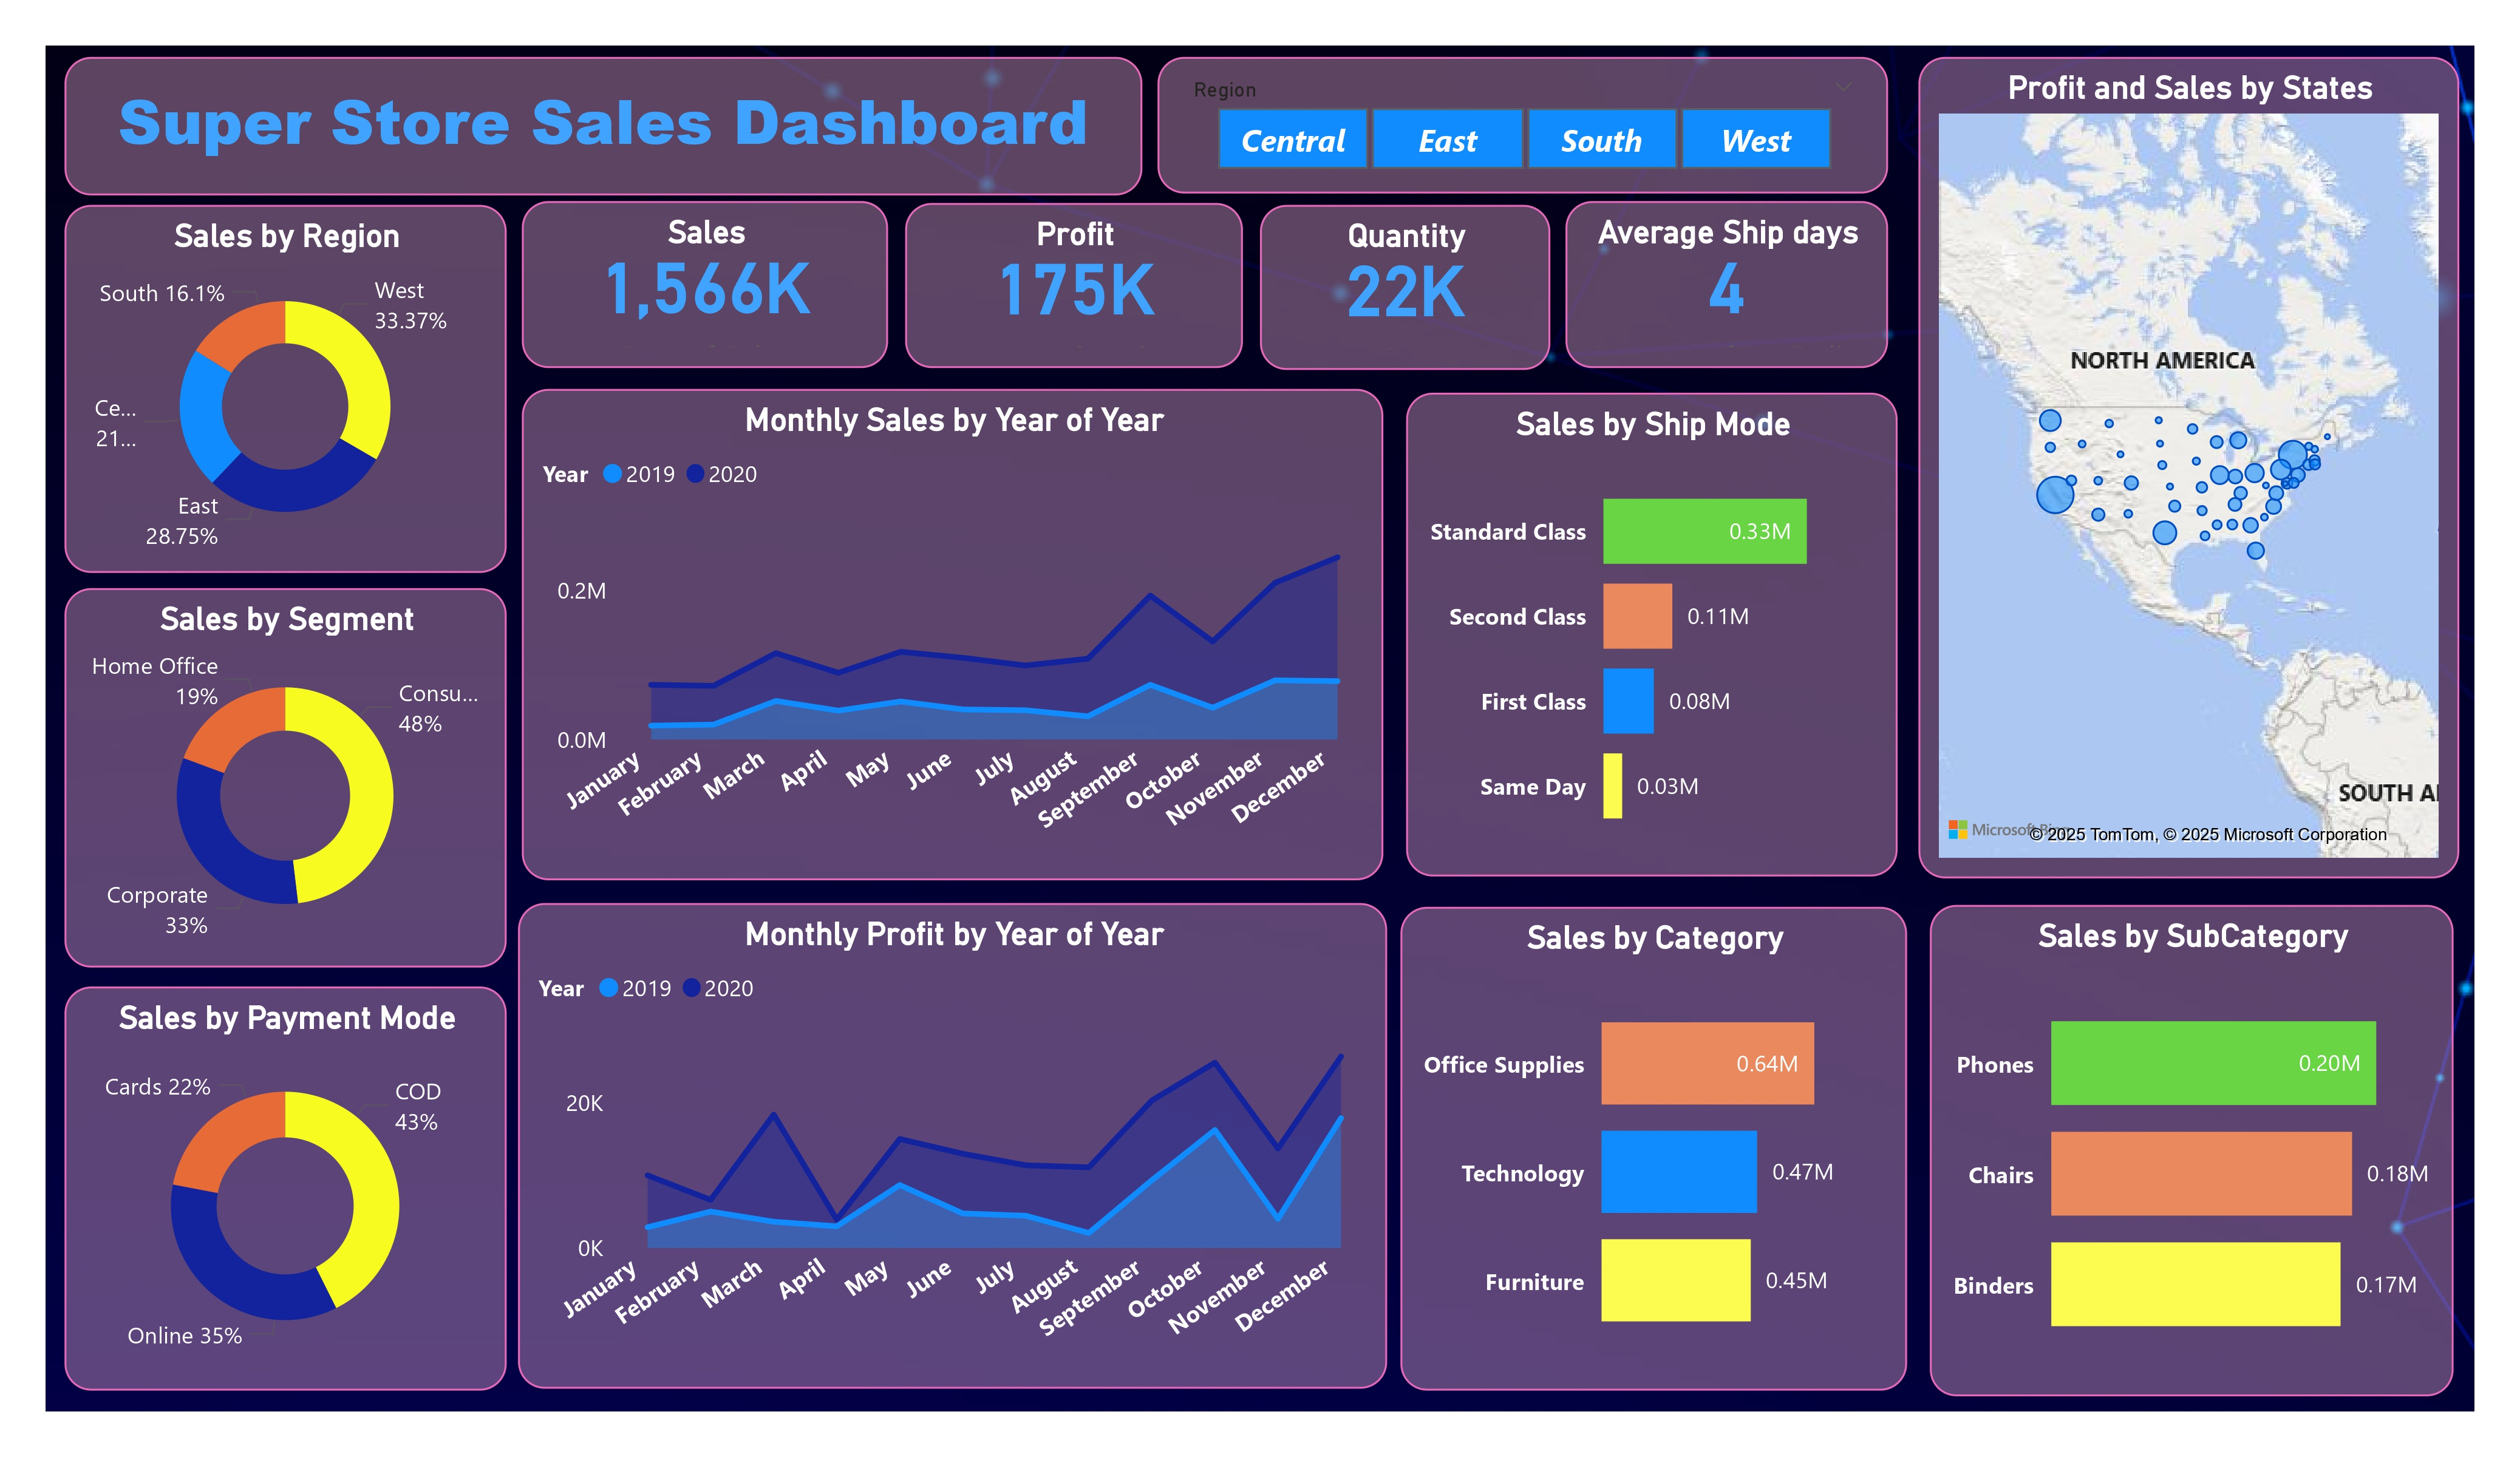

The page's visual inventory and layout, read from the dashboard file:
{"tool":"powerbi","page":{"name":"Sales Dashboard","canvas":[1280,720],"ordinal":0},"visuals":[{"type":"clusteredBarChart","title":"Sales by Category","fields":{"Category":["SuperStore_Sales_Dataset.Category"],"Y":["Sum(SuperStore_Sales_Dataset.Sales)"]},"box":[714.2,454.1,266.6,255.3],"z":0},{"type":"clusteredBarChart","title":"Sales by SubCategory","fields":{"Category":["SuperStore_Sales_Dataset.Sub-Category"],"Y":["Sum(SuperStore_Sales_Dataset.Sales)"]},"box":[992.9,452.9,276.3,258.9],"z":1000},{"type":"clusteredBarChart","title":"Sales by Ship Mode","fields":{"Category":["SuperStore_Sales_Dataset.Ship Mode"],"Y":["Sum(SuperStore_Sales_Dataset.Sales)"]},"box":[716.6,183.4,259.4,254.6],"z":2000},{"type":"stackedAreaChart","title":"Monthly Sales by Year of Year","fields":{"Y":["Sum(SuperStore_Sales_Dataset.Sales)"],"Category":["SuperStore_Sales_Dataset.Order Date.Variation.Date Hierarchy.Month","SuperStore_Sales_Dataset.Order Date.Variation.Date Hierarchy.Day"],"Series":["SuperStore_Sales_Dataset.Order Date.Variation.Date Hierarchy.Year"]},"box":[251.2,181.2,453.8,258.8],"z":3000},{"type":"stackedAreaChart","title":"Monthly Profit by Year of Year","fields":{"Category":["SuperStore_Sales_Dataset.Order Date.Variation.Date Hierarchy.Month","SuperStore_Sales_Dataset.Order Date.Variation.Date Hierarchy.Day"],"Series":["SuperStore_Sales_Dataset.Order Date.Variation.Date Hierarchy.Year"],"Y":["Sum(SuperStore_Sales_Dataset.Profit)"]},"box":[248.8,452.4,458.2,255.8],"z":4000},{"type":"map","title":"Profit and Sales by States","fields":{"Category":["SuperStore_Sales_Dataset.State"],"Size":["Sum(SuperStore_Sales_Dataset.Sales)"]},"box":[986.9,6,284.7,433.1],"z":5000},{"type":"donutChart","title":"Sales by Segment","fields":{"Category":["SuperStore_Sales_Dataset.Segment"],"Y":["Sum(SuperStore_Sales_Dataset.Sales)"]},"box":[10,286.2,232.5,200],"z":6000},{"type":"donutChart","title":"Sales by Payment Mode","fields":{"Category":["SuperStore_Sales_Dataset.Payment Mode"],"Y":["Sum(SuperStore_Sales_Dataset.Sales)"]},"box":[10,496.2,232.5,212.5],"z":7000},{"type":"slicer","fields":{"Values":["SuperStore_Sales_Dataset.Region"]},"box":[586.3,6,384.9,72.4],"z":8000},{"type":"textbox","box":[10,6.2,567.5,72.5],"z":9000},{"type":"card","title":"Sales","fields":{"Values":["Sum(SuperStore_Sales_Dataset.Sales)"]},"box":[250.9,82,193,88.1],"z":10000},{"type":"card","title":"Profit","fields":{"Values":["Sum(SuperStore_Sales_Dataset.Profit)"]},"box":[452.5,82.5,178.8,87.5],"z":11000},{"type":"card","title":"Quantity","fields":{"Values":["Sum(SuperStore_Sales_Dataset.Quantity)"]},"box":[640,83.8,152.5,87.5],"z":12000},{"type":"card","title":"Average Ship days","fields":{"Values":["Avg(SuperStore_Sales_Dataset.AveDelievery Date)"]},"box":[801.1,82,170.1,88.1],"z":13000},{"type":"donutChart","title":"Sales by Region","fields":{"Category":["SuperStore_Sales_Dataset.Region"],"Y":["Sum(SuperStore_Sales_Dataset.Sales)"]},"box":[10,83.8,232.5,193.8],"z":14000}]}

Visuals, with their boxes in screenshot pixels (x1, y1, x2, y2):
"Sales by Category" clusteredBarChart: (x1=1401, y1=907, x2=1907, y2=1391)
"Sales by SubCategory" clusteredBarChart: (x1=1930, y1=905, x2=2454, y2=1396)
"Sales by Ship Mode" clusteredBarChart: (x1=1405, y1=393, x2=1898, y2=877)
"Monthly Sales by Year of Year" stackedAreaChart: (x1=522, y1=389, x2=1383, y2=880)
"Monthly Profit by Year of Year" stackedAreaChart: (x1=517, y1=904, x2=1387, y2=1389)
"Profit and Sales by States" map: (x1=1918, y1=57, x2=2459, y2=878)
"Sales by Segment" donutChart: (x1=64, y1=588, x2=506, y2=968)
"Sales by Payment Mode" donutChart: (x1=64, y1=987, x2=506, y2=1390)
slicer - SuperStore_Sales_Dataset.Region: (x1=1158, y1=57, x2=1888, y2=194)
textbox: (x1=64, y1=57, x2=1142, y2=195)
"Sales" card: (x1=522, y1=201, x2=888, y2=368)
"Profit" card: (x1=904, y1=202, x2=1244, y2=368)
"Quantity" card: (x1=1260, y1=205, x2=1550, y2=370)
"Average Ship days" card: (x1=1565, y1=201, x2=1888, y2=368)
"Sales by Region" donutChart: (x1=64, y1=205, x2=506, y2=572)
